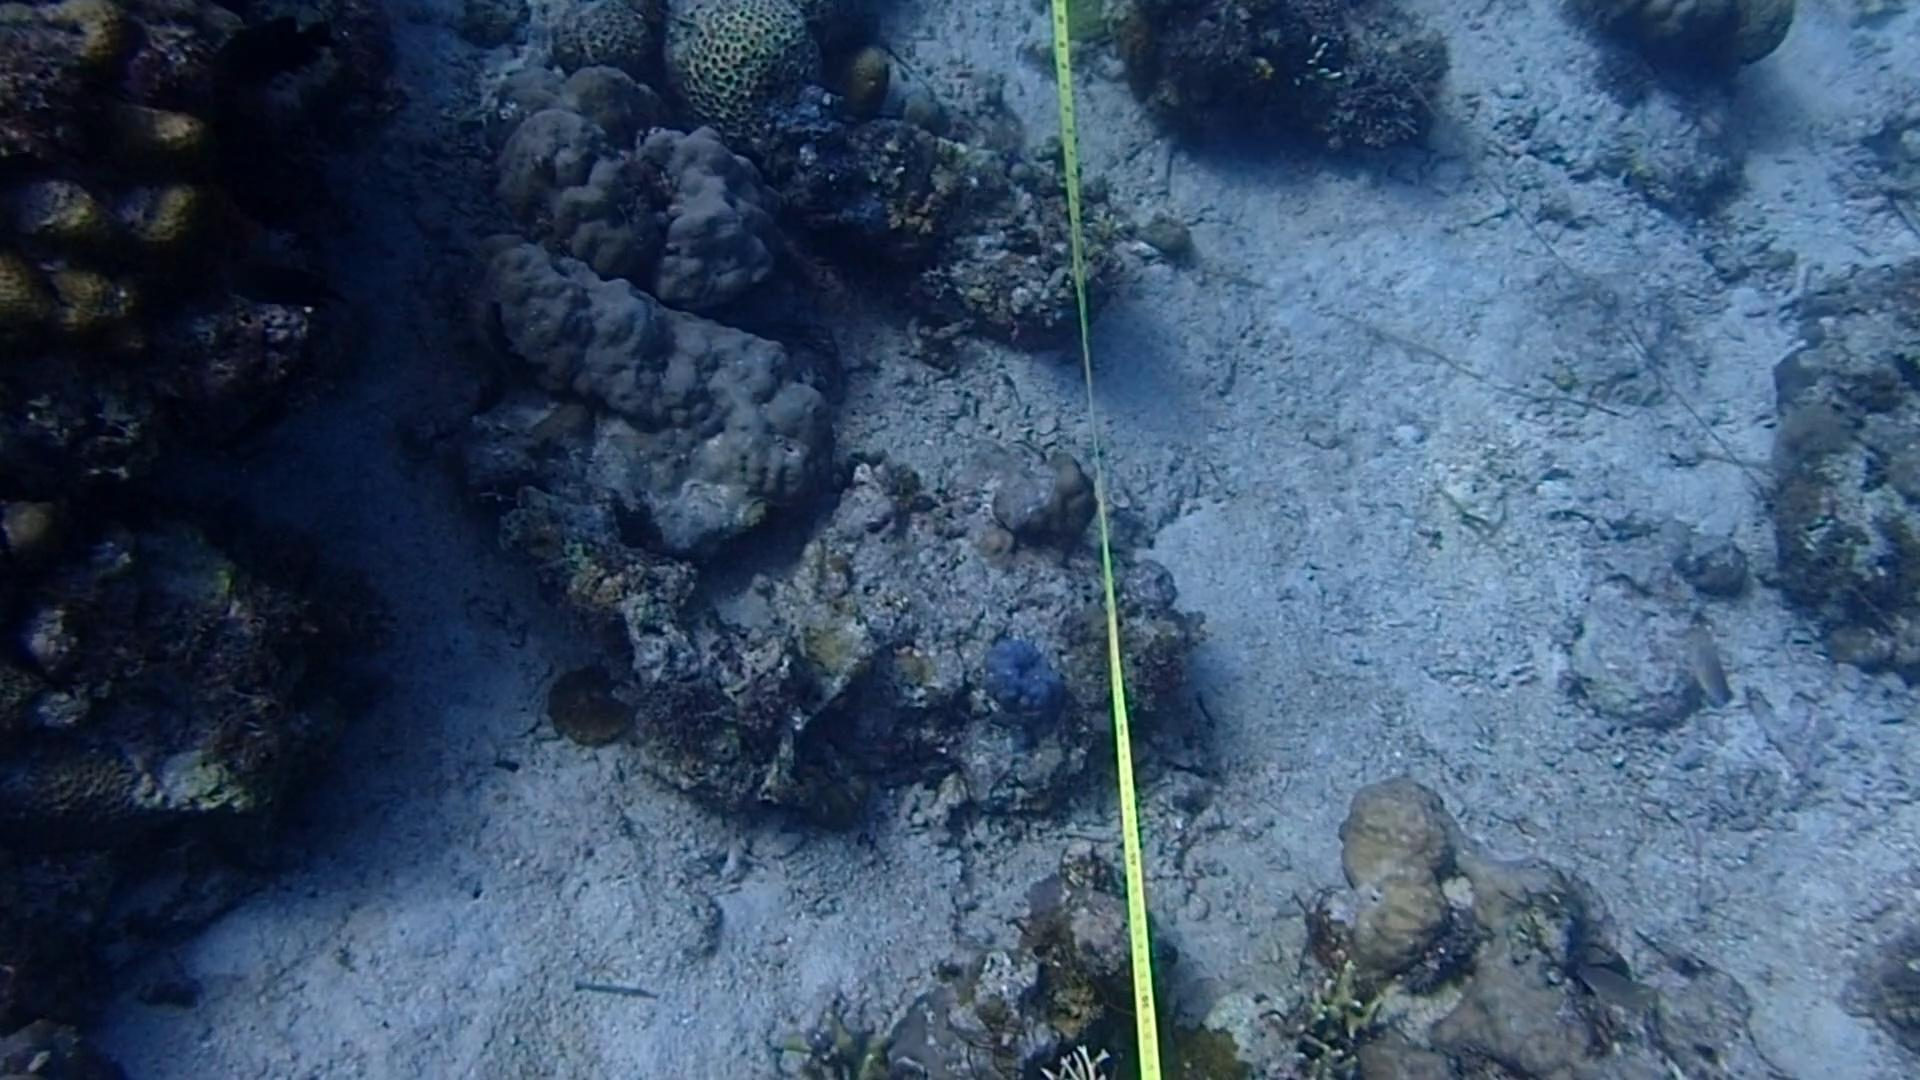Dark Fish: (183, 231, 342, 324), (195, 0, 327, 102), (178, 798, 278, 893), (458, 284, 541, 397)
Light Fish: (1676, 618, 1741, 720)
